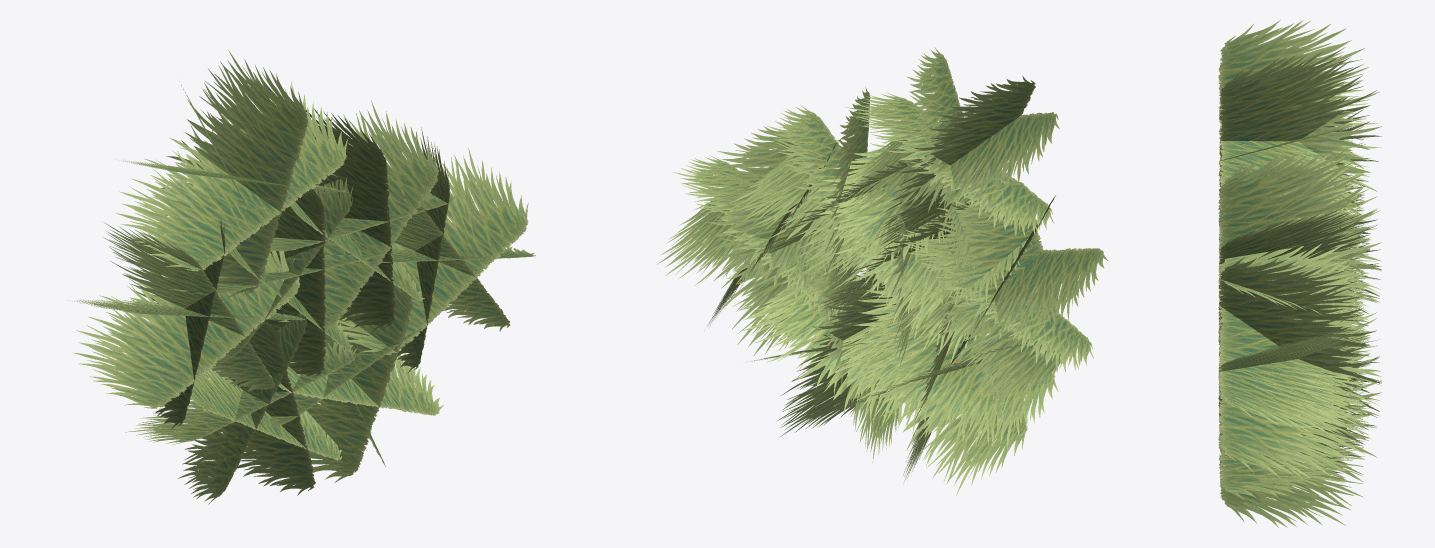
Rendered from grass_1.fbx.
The picture shows the model from 3 angles, left to right: view 1: azimuth 30°, elevation 25°; view 2: azimuth 150°, elevation 25°; view 3: azimuth 270°, elevation 25°; orthographic projection. The views are drawn at different scales.
Parts seen in each view (by area): view 1: Plane; view 2: Plane; view 3: Plane.
Boxes of the visible parts, box(x1,y1,x2,y2) form: Plane: box(67, 50, 535, 504); Plane: box(657, 47, 1108, 495); Plane: box(1218, 20, 1381, 527).
Size of the model in its own units: 42154 by 40091 by 19319.
